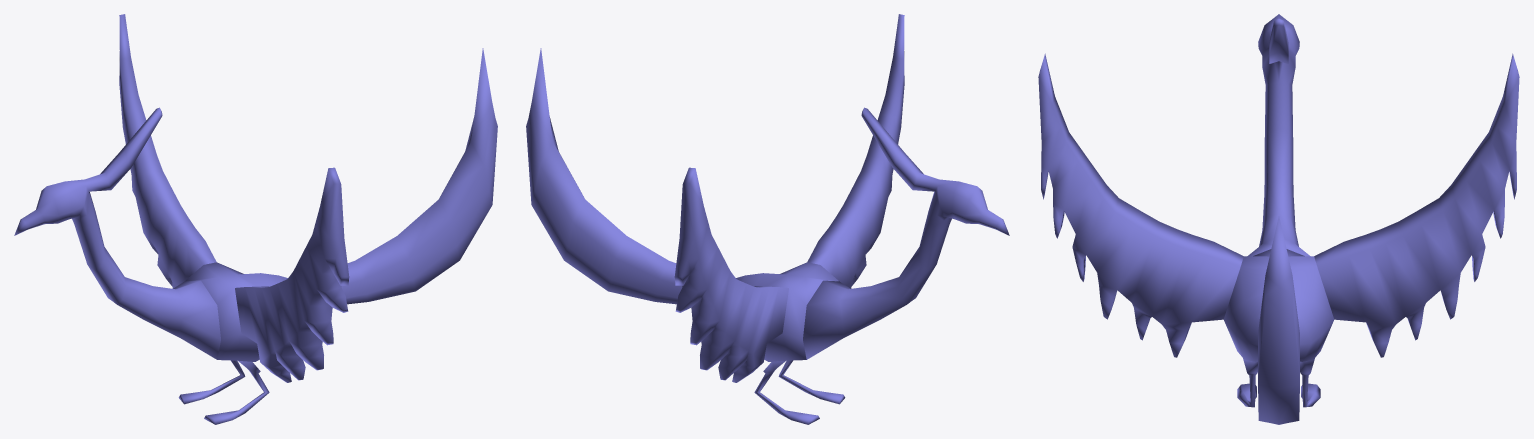
File: Simorgh.fbx
3 views of the same model, side by side, from view 1: azimuth 30°, elevation 25°; view 2: azimuth 150°, elevation 25°; view 3: azimuth 270°, elevation 25° (orthographic). The views are drawn at different scales.
Visible parts, largest first — view 1: Simorgh_Part_006, Simorgh_Part_008, Simorgh_Part_009, Simorgh_Part_007, Simorgh_Part_010; view 2: Simorgh_Part_006, Simorgh_Part_007, Simorgh_Part_009, Simorgh_Part_008, Simorgh_Part_010; view 3: Simorgh_Part_007, Simorgh_Part_008, Simorgh_Part_010, Simorgh_Part_009, Simorgh_Part_006.
Boxes of the visible parts, x1,y1,x2,y2 form: Simorgh_Part_006: (341, 48, 497, 304); Simorgh_Part_008: (235, 167, 349, 382); Simorgh_Part_009: (14, 107, 220, 359); Simorgh_Part_007: (119, 14, 216, 288); Simorgh_Part_010: (178, 262, 287, 424); Simorgh_Part_006: (526, 48, 682, 304); Simorgh_Part_007: (674, 167, 788, 382); Simorgh_Part_009: (803, 107, 1009, 359); Simorgh_Part_008: (807, 14, 904, 288); Simorgh_Part_010: (736, 262, 845, 424); Simorgh_Part_007: (1314, 53, 1519, 357); Simorgh_Part_008: (1038, 53, 1243, 357); Simorgh_Part_010: (1223, 249, 1334, 407); Simorgh_Part_009: (1247, 14, 1310, 256); Simorgh_Part_006: (1258, 216, 1299, 424).
Bounding box in the file's own units: 158 × 99.28 × 123.
